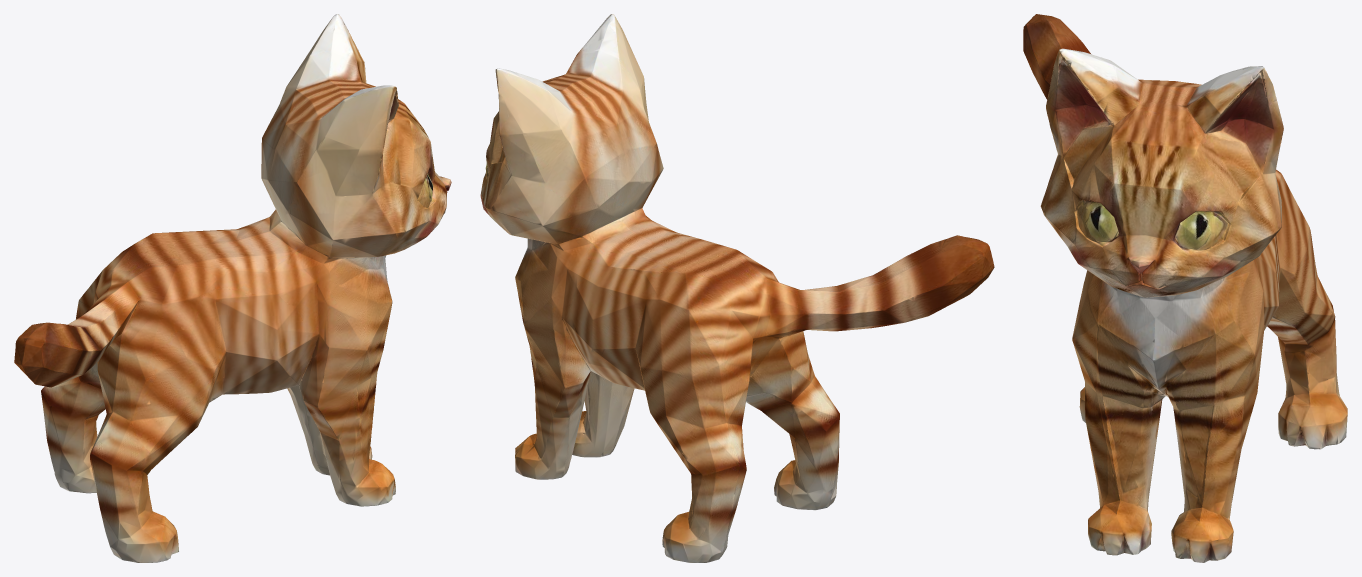
File: ROOKIEPAW.glb
3 views of the same model, side by side, from view 1: azimuth 30°, elevation 25°; view 2: azimuth 150°, elevation 25°; view 3: azimuth 270°, elevation 25° (orthographic). The views are drawn at different scales.
Parts seen in each view (by area): view 1: fit; view 2: fit; view 3: fit.
Part boxes in pixels (x1,y1,x2,y2): fit: [14, 14, 451, 562]; fit: [480, 14, 994, 562]; fit: [1023, 14, 1347, 562].
Size of the model in its own units: 1.16 by 1 by 0.5946.
Materials: 1 (1 with a texture image).
